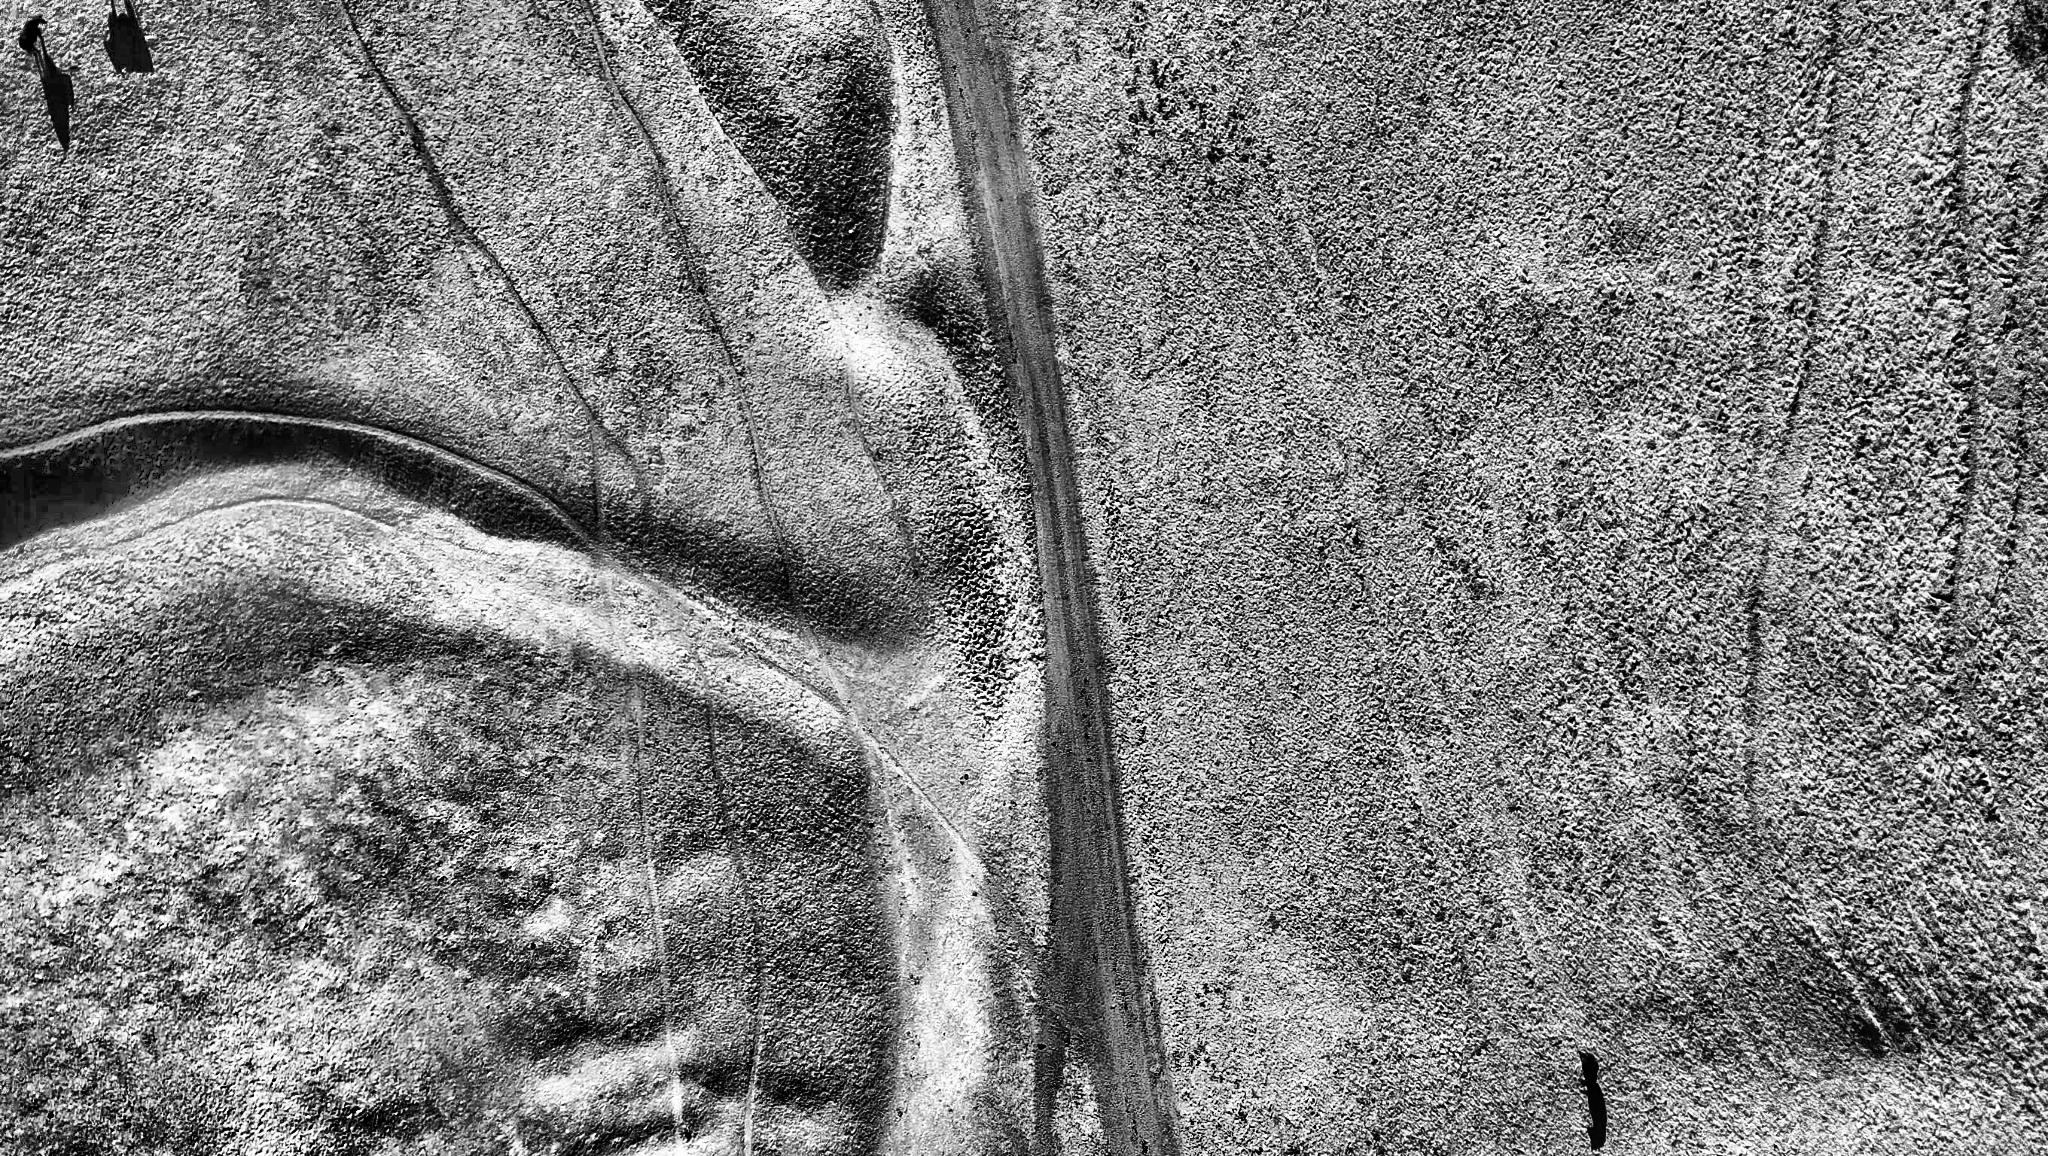herd: (1568, 1041, 1612, 1101), (14, 7, 55, 65)
